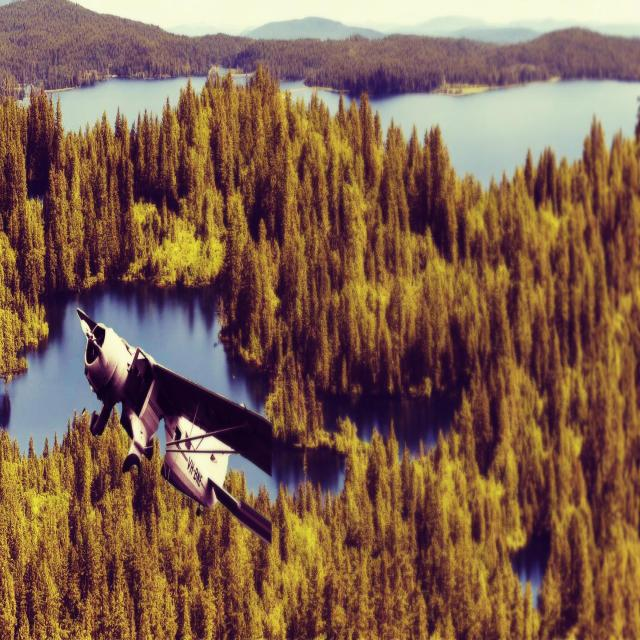airplane: (75, 306, 274, 546)
